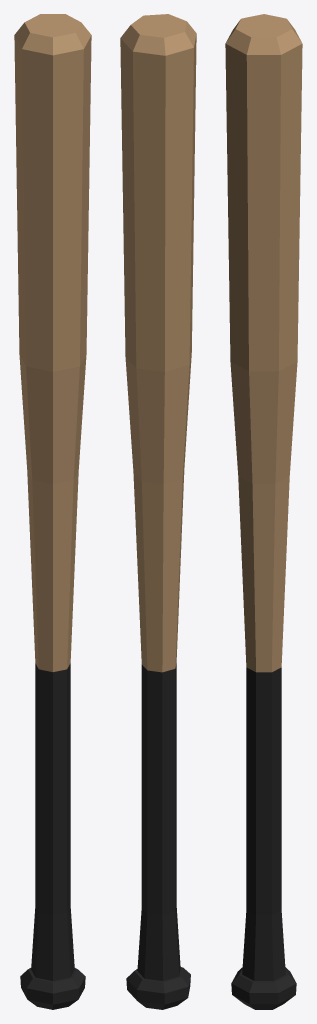
Rendered from Wooden Baseball Bat.fbx.
3 renders of one model, left to right at view 1: azimuth 90°, elevation 25°; view 2: azimuth 150°, elevation 25°; view 3: azimuth 270°, elevation 25°, orthographic.
Visible parts, largest first — view 1: Wooden bat; view 2: Wooden bat; view 3: Wooden bat.
Part boxes in pixels (x1,y1,x2,y2): Wooden bat: (14,14,91,1009); Wooden bat: (120,14,196,1009); Wooden bat: (225,14,302,1009).
Bounding box in the file's own units: 53.99 × 773 × 55.36.
Materials: 1 (1 with a texture image).
